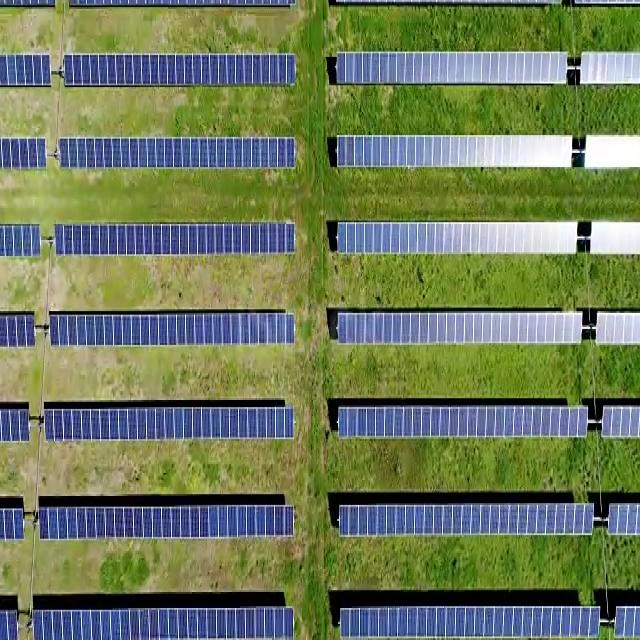Solar-panels: (339, 218, 581, 257), (42, 503, 296, 538), (338, 607, 603, 640), (36, 605, 296, 638), (339, 403, 590, 436), (45, 410, 295, 441), (336, 52, 570, 85), (65, 54, 297, 87), (59, 138, 295, 170), (338, 138, 574, 169), (340, 506, 595, 534), (340, 314, 585, 343), (49, 314, 293, 343), (55, 227, 296, 256)
